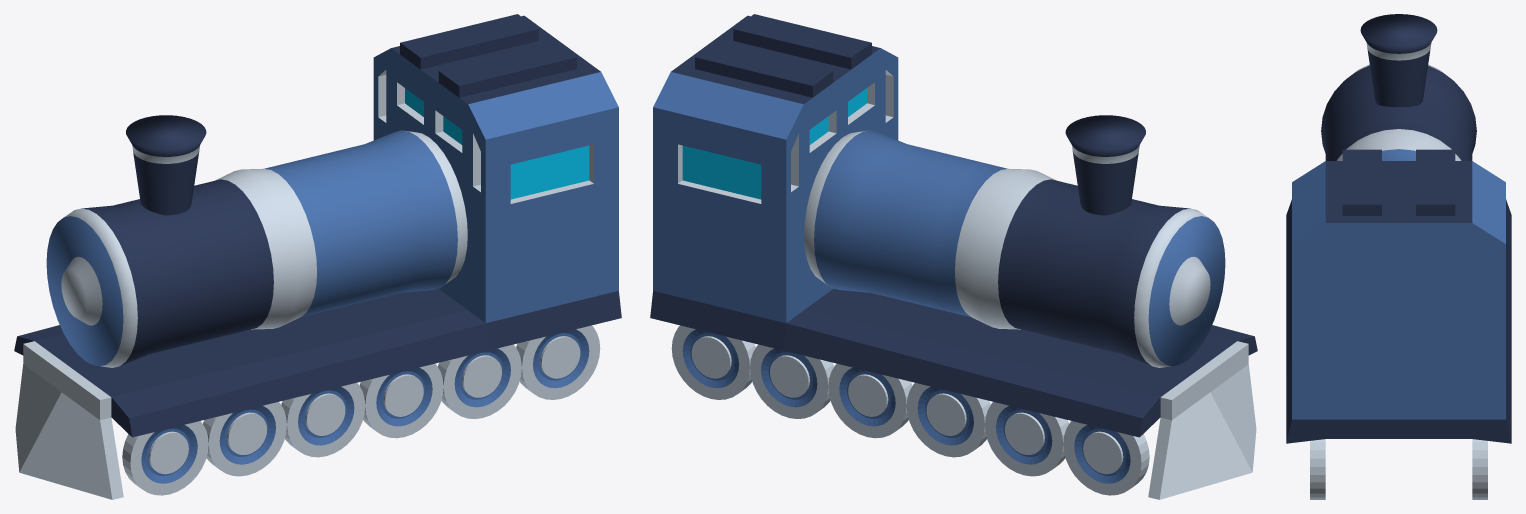
The model's file is TrainModel07.fbx.
3 views of the same model, side by side, from view 1: azimuth 30°, elevation 25°; view 2: azimuth 150°, elevation 25°; view 3: azimuth 270°, elevation 25° (orthographic). The views are drawn at different scales.
Parts seen in each view (by area): view 1: TrainModel07; view 2: TrainModel07; view 3: TrainModel07.
Boxes of the visible parts, x1,y1,x2,y2 form: TrainModel07: [14, 14, 621, 499]; TrainModel07: [650, 14, 1257, 499]; TrainModel07: [1286, 14, 1511, 499].
Bounding box in the file's own units: 816 × 461 × 307.
